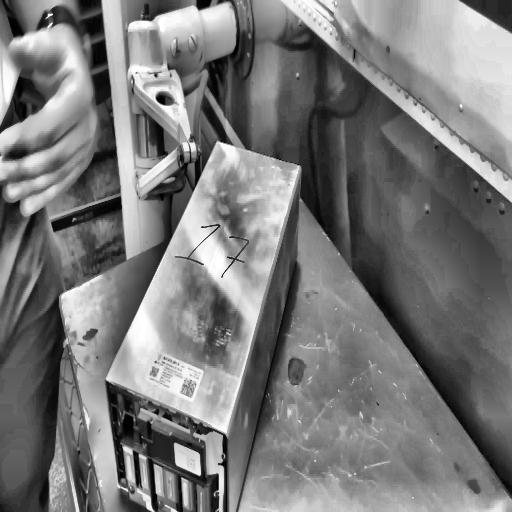battery_module: (106, 143, 301, 512)
